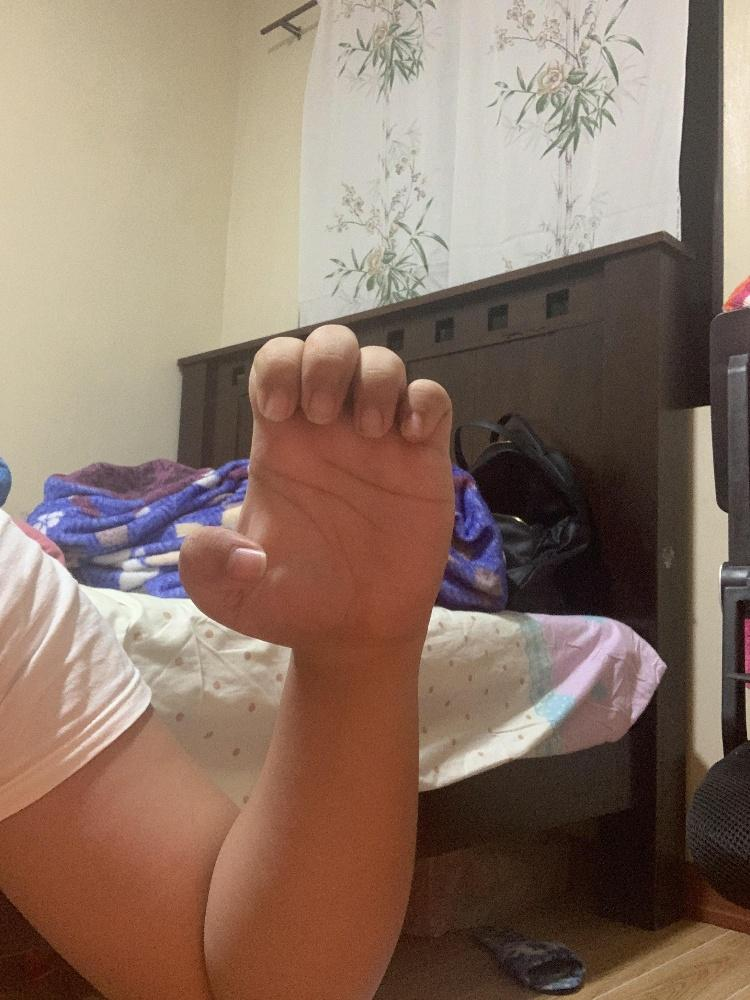e: (175, 319, 454, 643)
